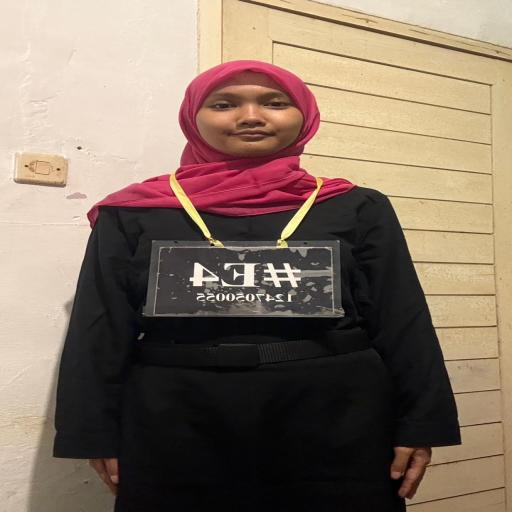kemeja_salah: (73, 201, 430, 338)
kerudung_benar: (105, 58, 362, 212)
nametag_ada: (148, 183, 344, 323), (112, 336, 406, 368)
rok_benar: (101, 367, 410, 512)
